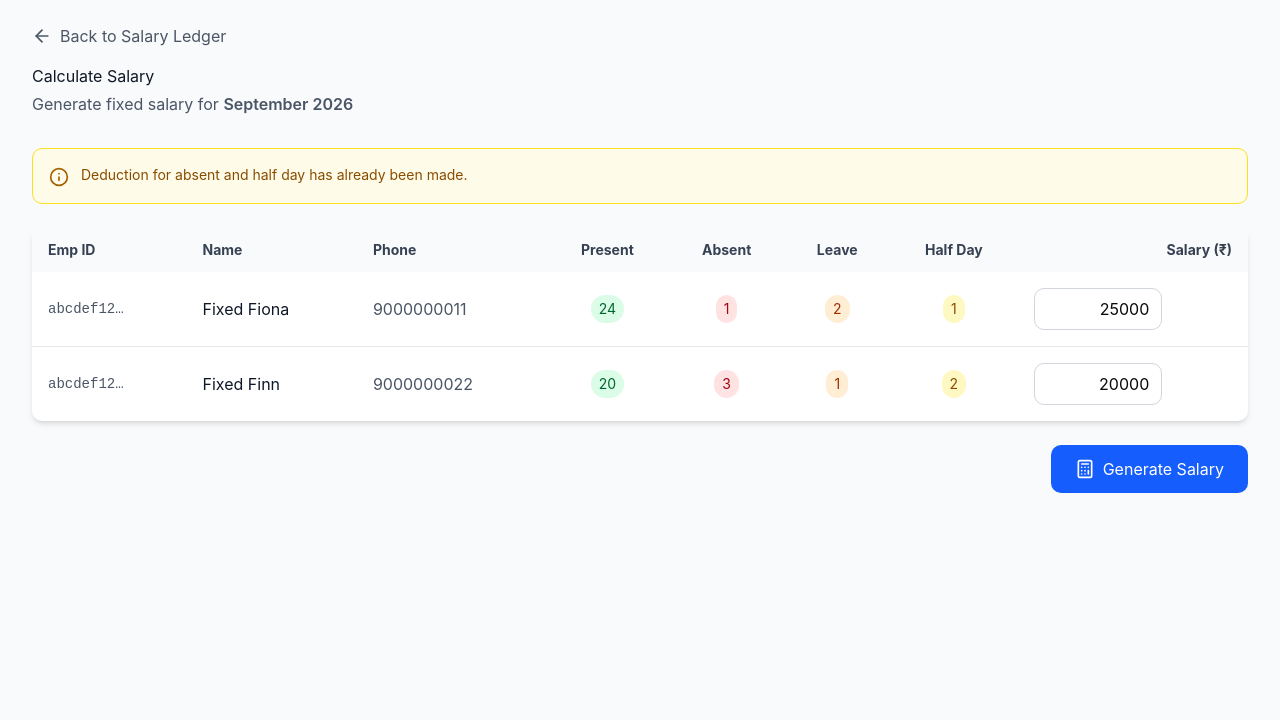
Scenario: CalculateSalaryScreen › generating the salary › shows Generating... and ignores another press while it is in flight
Expected: the text "Fixed Fiona" is shown, 186,272 -> 357,346
Click the button "Generate Salary". click: coordinates (1149, 469)
box: 1051,445 -> 1248,493
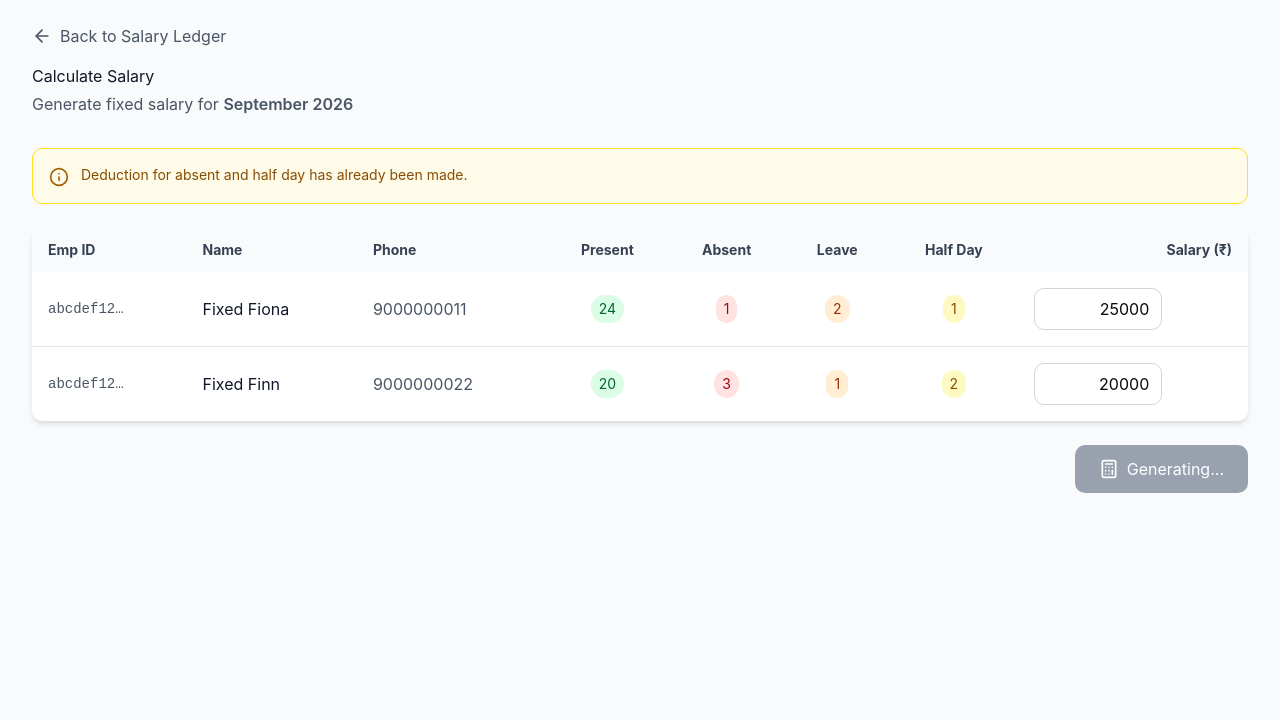
Result: the button "Generating..." is disabled
Click the button "Generating...". click: coordinates (1161, 469)
box: 1075,445 -> 1248,493
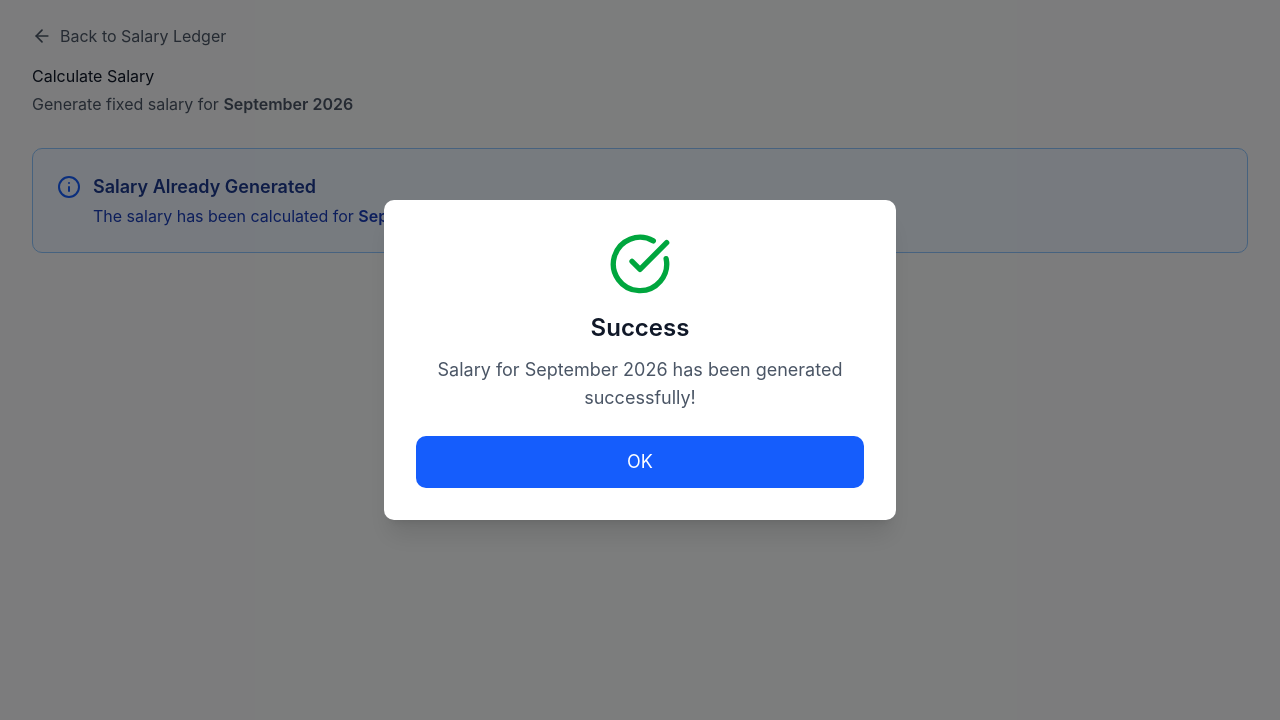
Result: the text "Salary for September 2026 has been generated successfully!" is shown at 416,356 -> 864,412
